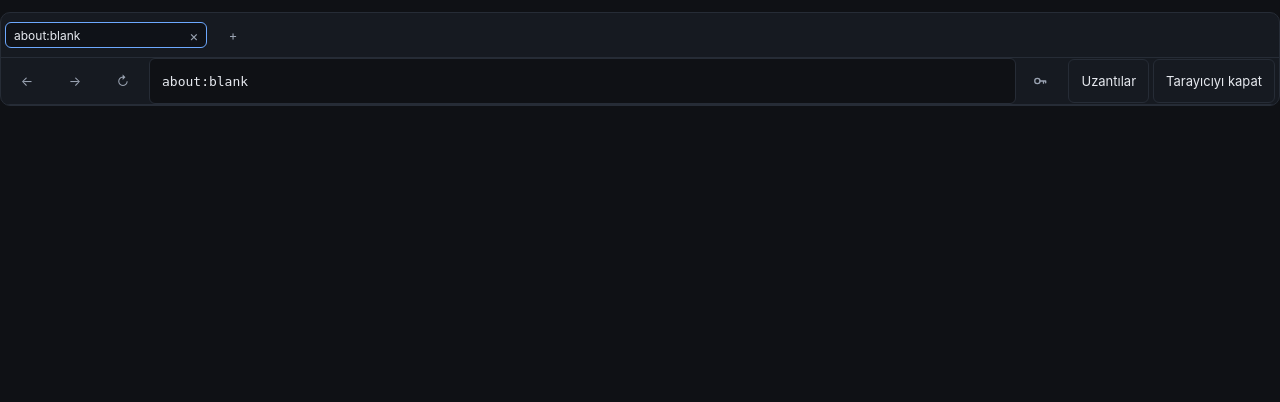
BrowserPanel: Uzantılar › lists remembered extensions with their state when opened
The image size is (1280, 402).
Click the button "Uzantılar" at (1109, 81), box [1068,59,1149,103]
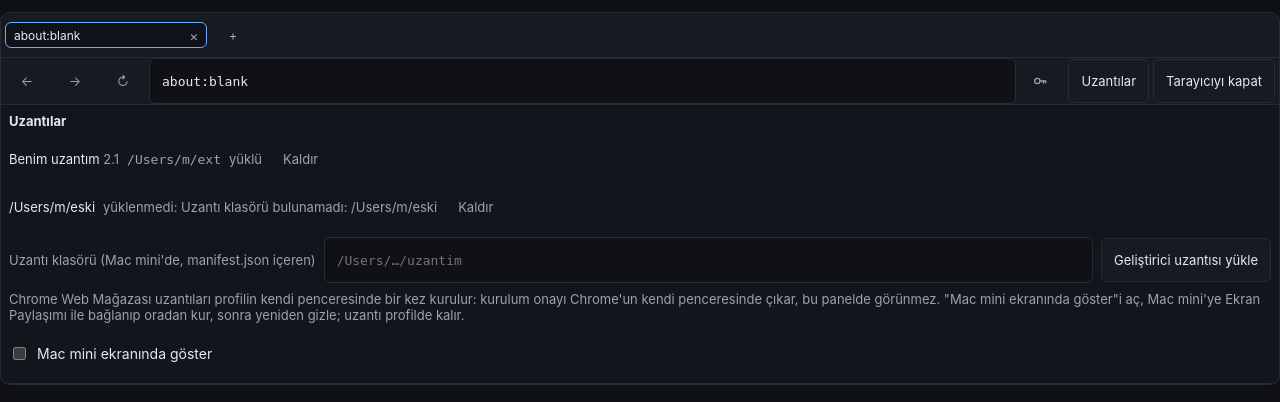
Now the list item "Benim uzantım 2.1 /Users/m/ext yüklü Kaldır" is shown, box [9,137,331,181]
Now the list item that starts with "/Users/m/eski" is shown, box [9,199,95,215]
Now the list item that starts with "/Users/m/eski" shows "bulunamadı", box [103,199,437,215]
